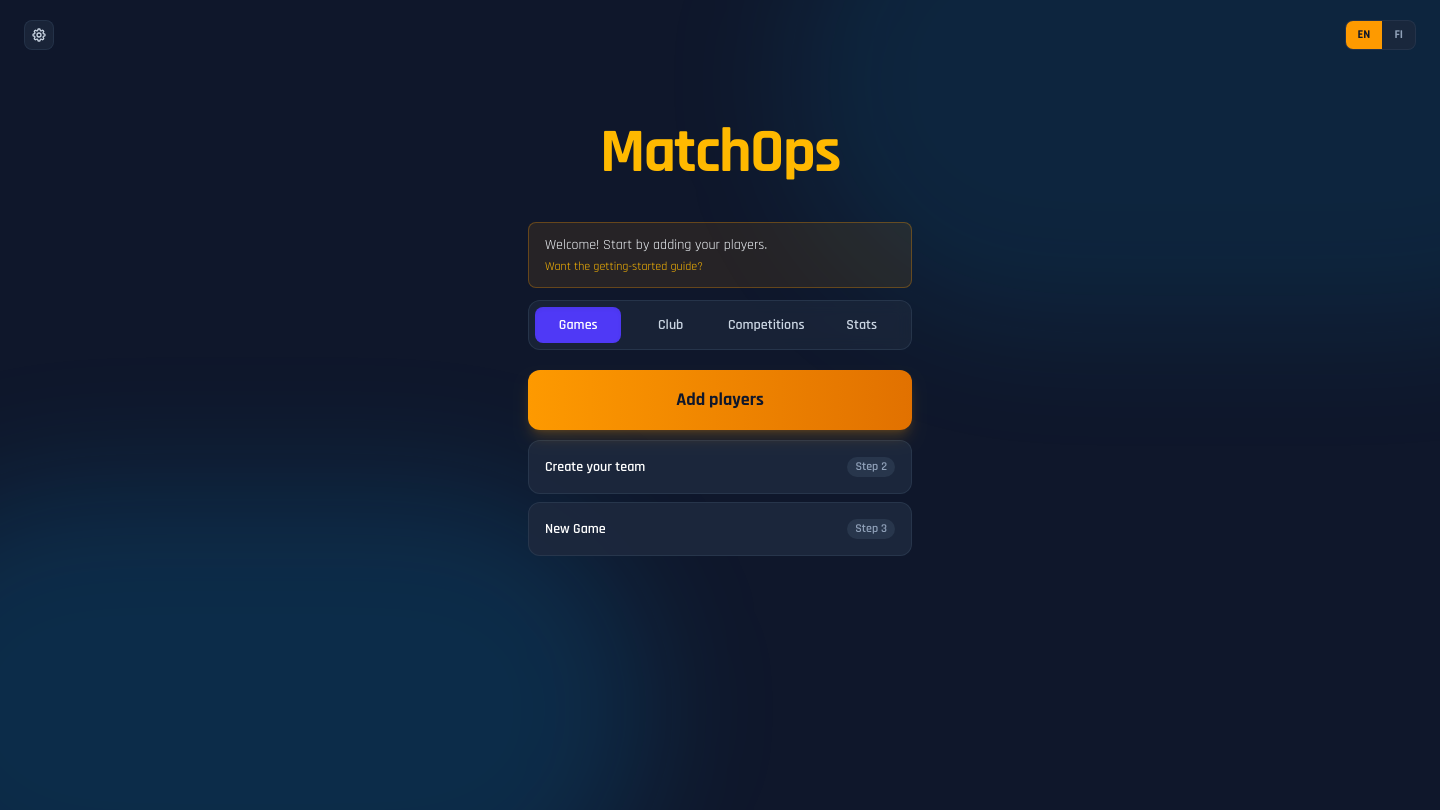
Home shell tab bar (two-level restructure PR 1.2) › Onboarding v2 composition (pre-first-game) › the welcome strip carries the opt-in tour link
The image size is (1440, 810).
Click the button with test id "welcome-strip-tour" at (624, 267), box [545,259,703,275]
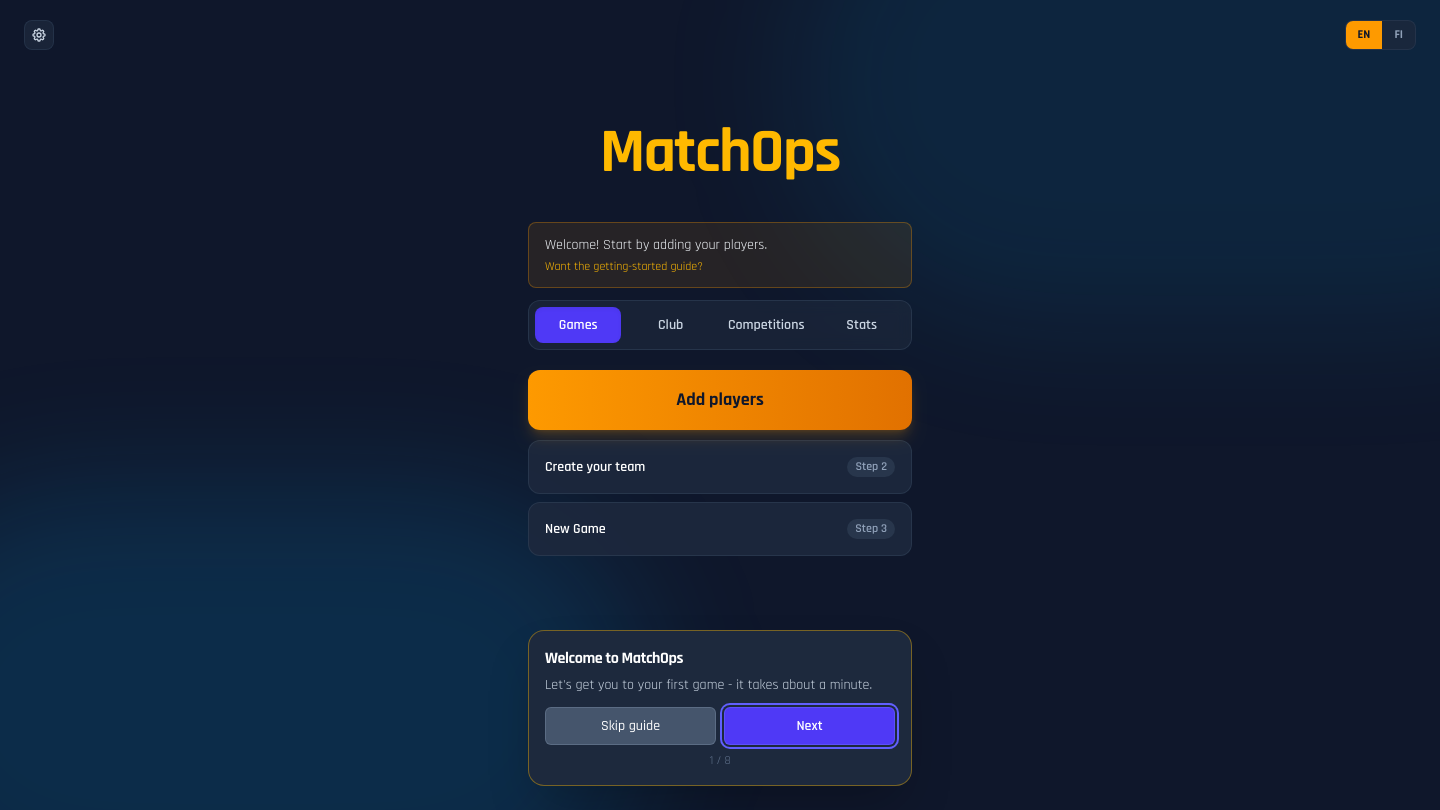
Result: the element with test id "guided-tour-overlay" is shown at [528,630,912,786]
